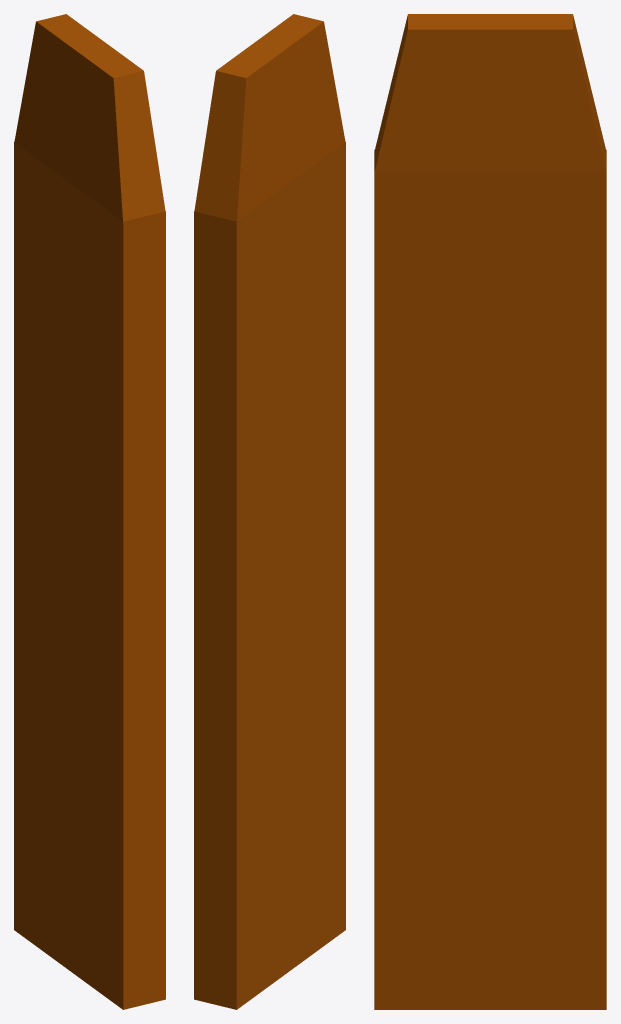
The model's file is FencePostSingle.fbx.
3 views of the same model, side by side, from view 1: azimuth 30°, elevation 25°; view 2: azimuth 150°, elevation 25°; view 3: azimuth 270°, elevation 25° (orthographic). The views are drawn at different scales.
Parts seen in each view (by area): view 1: Cube.001; view 2: Cube.001; view 3: Cube.001.
Boxes of the visible parts, x1,y1,x2,y2 form: Cube.001: (14,14,165,1009); Cube.001: (194,14,345,1009); Cube.001: (374,14,606,1009).
Bounding box in the file's own units: 45.19 × 928 × 200.
